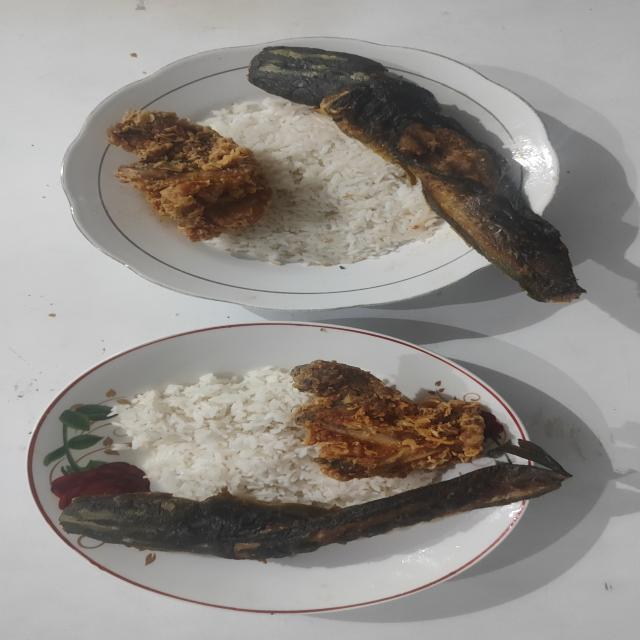nasi_putih: (114, 367, 439, 508), (202, 97, 448, 266)
